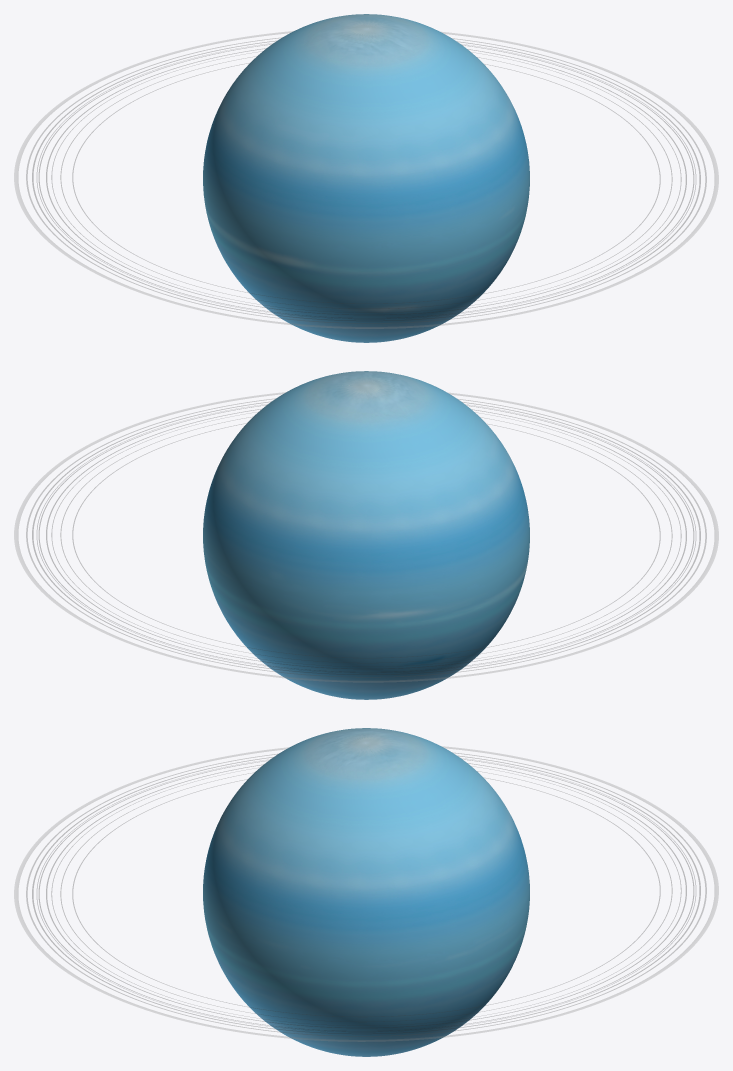
File: uranus.obj
3 views of the same model, one above another, from view 1: azimuth 30°, elevation 25°; view 2: azimuth 150°, elevation 25°; view 3: azimuth 270°, elevation 25° (orthographic).
Parts seen in each view (by area): view 1: 13907_Uranus_v2_l3_13907_Uranus_v2_l3_13907_Uranus_planet, 13907_Uranus_v2_l3_13907_Uranus_v2_l3_13907_Uranus_rings; view 2: 13907_Uranus_v2_l3_13907_Uranus_v2_l3_13907_Uranus_planet, 13907_Uranus_v2_l3_13907_Uranus_v2_l3_13907_Uranus_rings; view 3: 13907_Uranus_v2_l3_13907_Uranus_v2_l3_13907_Uranus_planet, 13907_Uranus_v2_l3_13907_Uranus_v2_l3_13907_Uranus_rings.
Boxes of the visible parts, bbox=[...] form: 13907_Uranus_v2_l3_13907_Uranus_v2_l3_13907_Uranus_planet: bbox=[203, 14, 529, 342]; 13907_Uranus_v2_l3_13907_Uranus_v2_l3_13907_Uranus_rings: bbox=[14, 31, 718, 328]; 13907_Uranus_v2_l3_13907_Uranus_v2_l3_13907_Uranus_planet: bbox=[203, 371, 529, 699]; 13907_Uranus_v2_l3_13907_Uranus_v2_l3_13907_Uranus_rings: bbox=[14, 392, 718, 682]; 13907_Uranus_v2_l3_13907_Uranus_v2_l3_13907_Uranus_planet: bbox=[203, 728, 529, 1056]; 13907_Uranus_v2_l3_13907_Uranus_v2_l3_13907_Uranus_rings: bbox=[14, 746, 718, 1041].
Size of the model in its own units: 984 by 462 by 984.
Materials: 2 (2 with a texture image).
